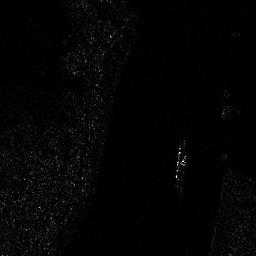ship: (174, 138, 188, 182)
